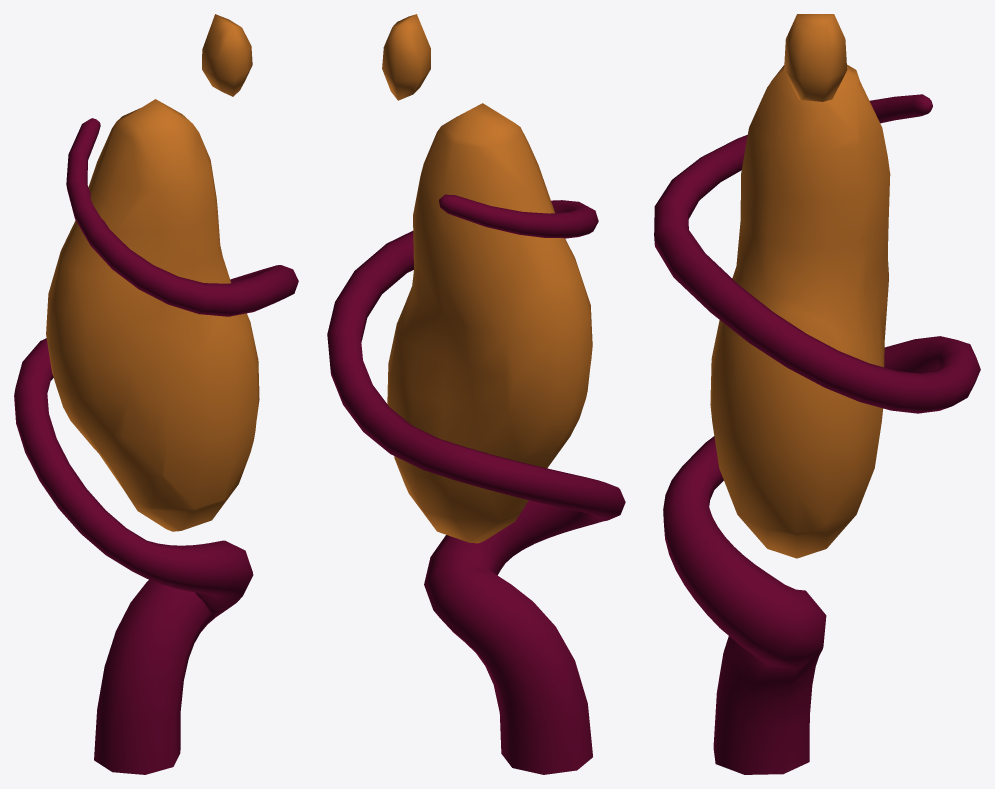
The model's file is Tree_Lava_1.glb.
The picture shows the model from 3 angles, left to right: view 1: azimuth 30°, elevation 25°; view 2: azimuth 150°, elevation 25°; view 3: azimuth 270°, elevation 25°; orthographic projection. The views are drawn at different scales.
Parts seen in each view (by area): view 1: Tree_Lava_1; view 2: Tree_Lava_1; view 3: Tree_Lava_1.
Boxes of the visible parts, left/top/right/bottom form: Tree_Lava_1: left=14, top=14, right=298, bottom=774; Tree_Lava_1: left=327, top=14, right=625, bottom=774; Tree_Lava_1: left=654, top=14, right=980, bottom=774.
Size of the model in its own units: 1.2 by 3.24 by 1.2.
Materials: 1 (1 with a texture image).
